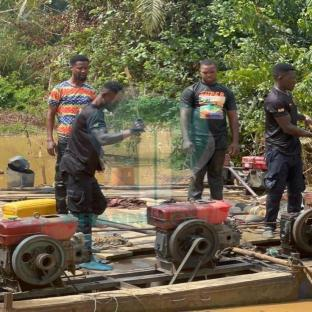Person: (59, 83, 131, 270), (255, 62, 312, 230), (178, 63, 229, 199)
ProcessingEquipment: (145, 202, 237, 273), (0, 213, 85, 289), (230, 156, 281, 192)
